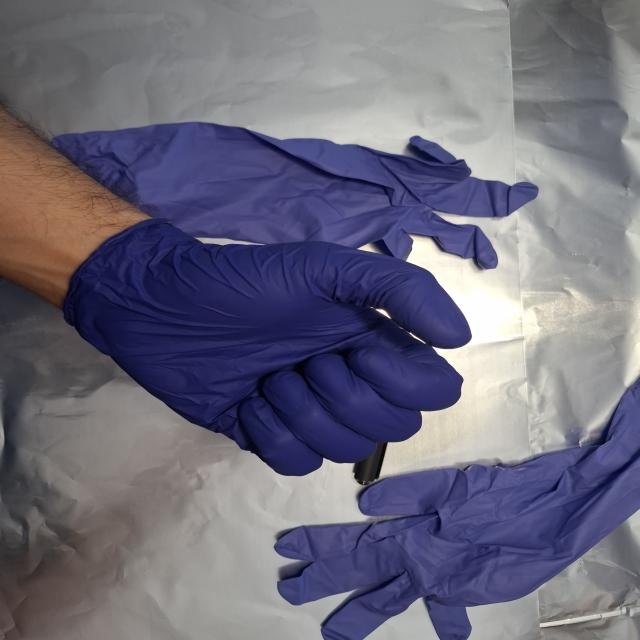glove_on: (56, 214, 480, 481)
